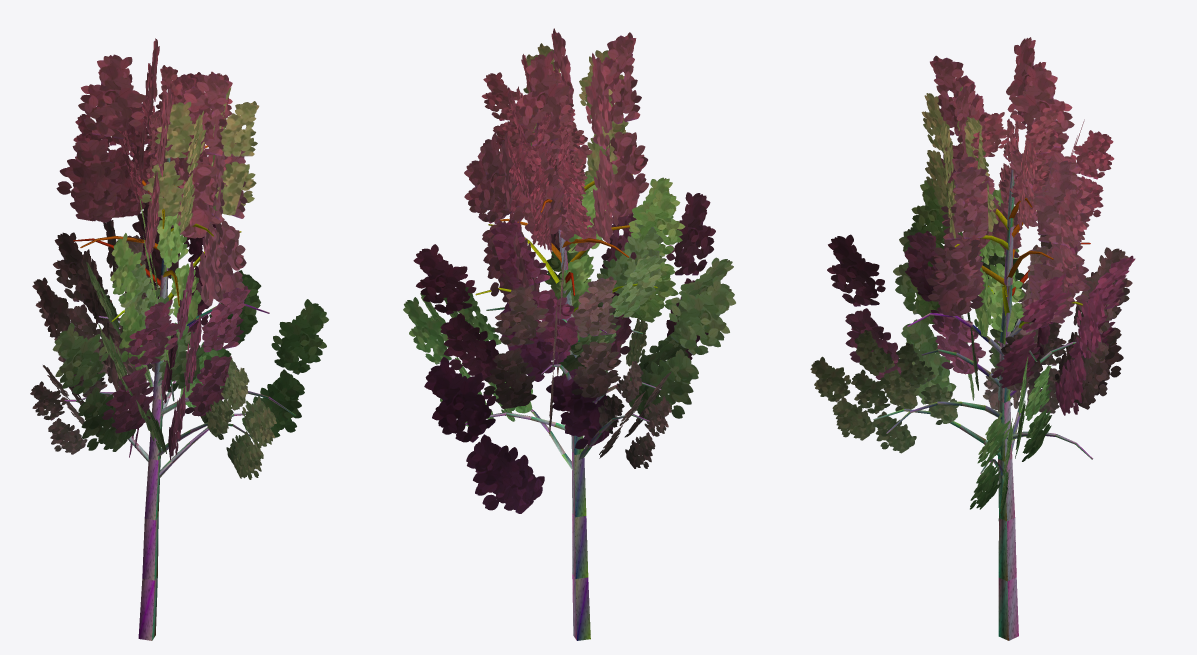
File: nat_birch_b_LOD2.glb
3 views of the same model, side by side, from view 1: azimuth 30°, elevation 25°; view 2: azimuth 150°, elevation 25°; view 3: azimuth 270°, elevation 25° (orthographic).
Parts seen in each view (by area): view 1: nat_birch_b_LOD2; view 2: nat_birch_b_LOD2; view 3: nat_birch_b_LOD2.
Boxes of the visible parts, x1,y1,x2,y2 form: nat_birch_b_LOD2: [30, 38, 328, 640]; nat_birch_b_LOD2: [403, 28, 735, 640]; nat_birch_b_LOD2: [810, 37, 1135, 640].
Bounding box in the file's own units: 4.75 × 7.71 × 4.57.
Materials: 2 (2 with a texture image).
